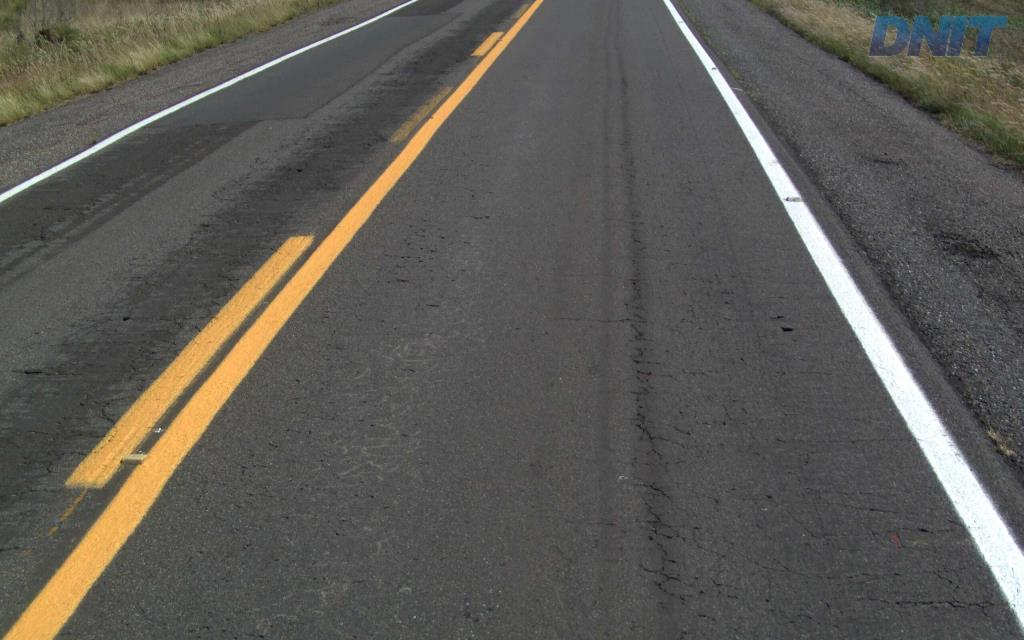crack: (638, 534, 681, 596), (633, 404, 669, 460), (644, 502, 673, 540)
